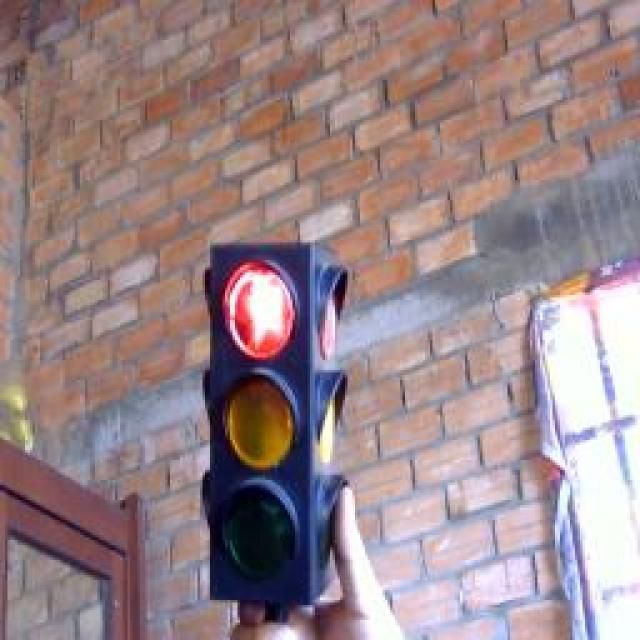-: (215, 260, 307, 365)
